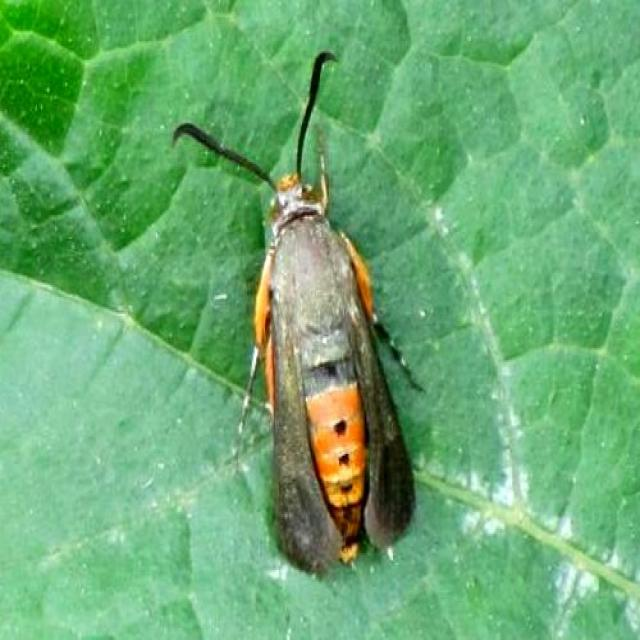squash_vine_borer: (164, 40, 430, 571)
